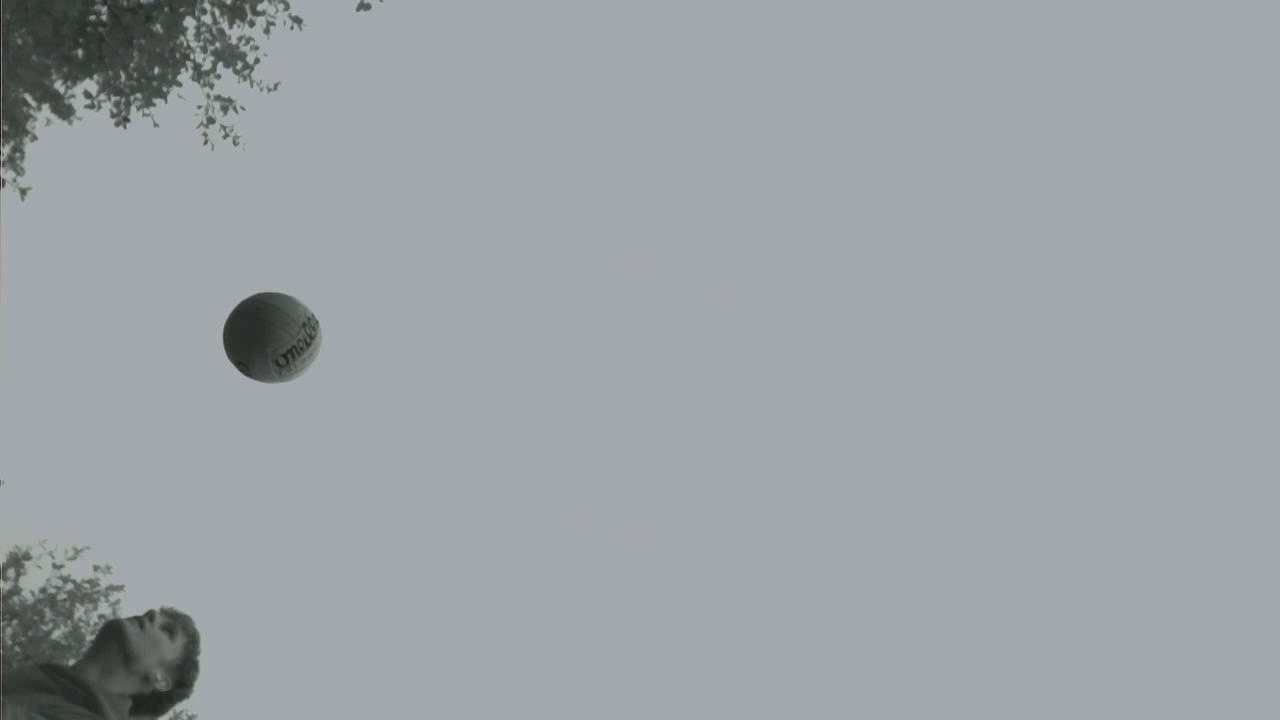Football-Spotter: (223, 292, 321, 382)
